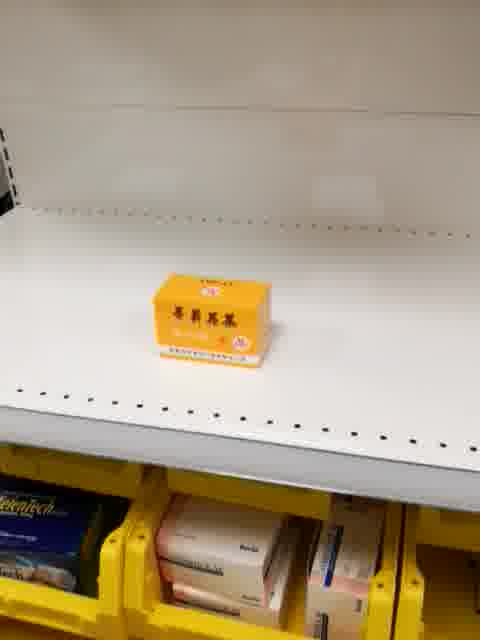jasminetea: (153, 270, 274, 369)
